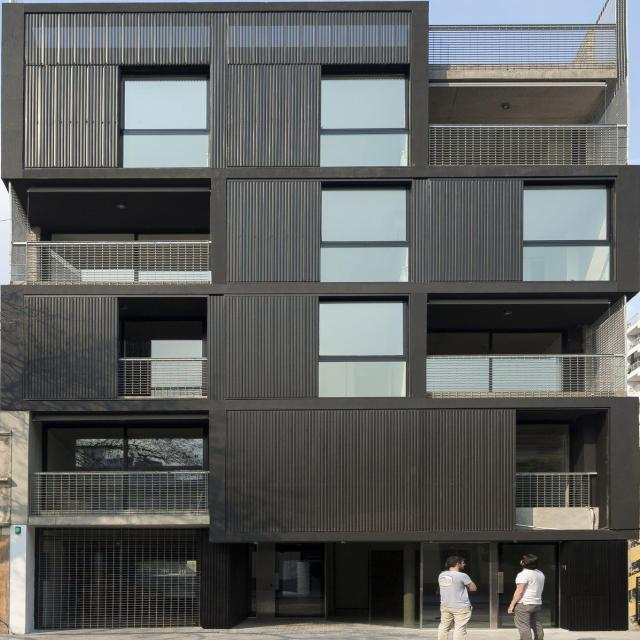door: (490, 549, 562, 639), (268, 547, 328, 623)
railing: (421, 361, 626, 401), (31, 477, 209, 523), (428, 132, 628, 172), (14, 248, 212, 288), (422, 30, 613, 71), (119, 365, 204, 403), (514, 479, 593, 512)
window: (318, 78, 408, 173), (320, 192, 408, 287), (118, 80, 207, 173), (320, 305, 405, 402), (523, 190, 607, 285), (41, 433, 202, 477), (117, 326, 202, 367), (424, 337, 565, 360), (511, 431, 569, 477)
